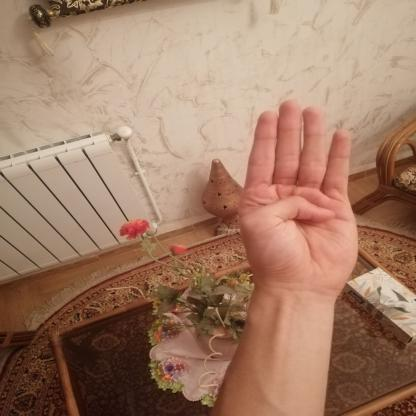KAAF: (229, 89, 375, 308)
